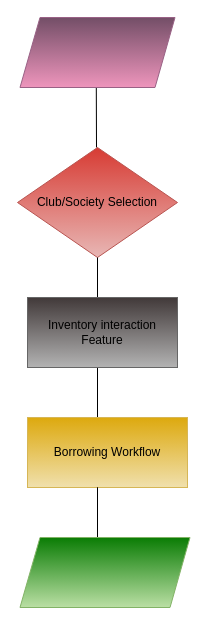
Image size: 208x625. Some labels were removed from this diagram. Here are the shapes that lost their labels. From the top down, the centre of each, then its label:
pixel 97 52: Student Authentication
pixel 104 572: Item Return Workflow
